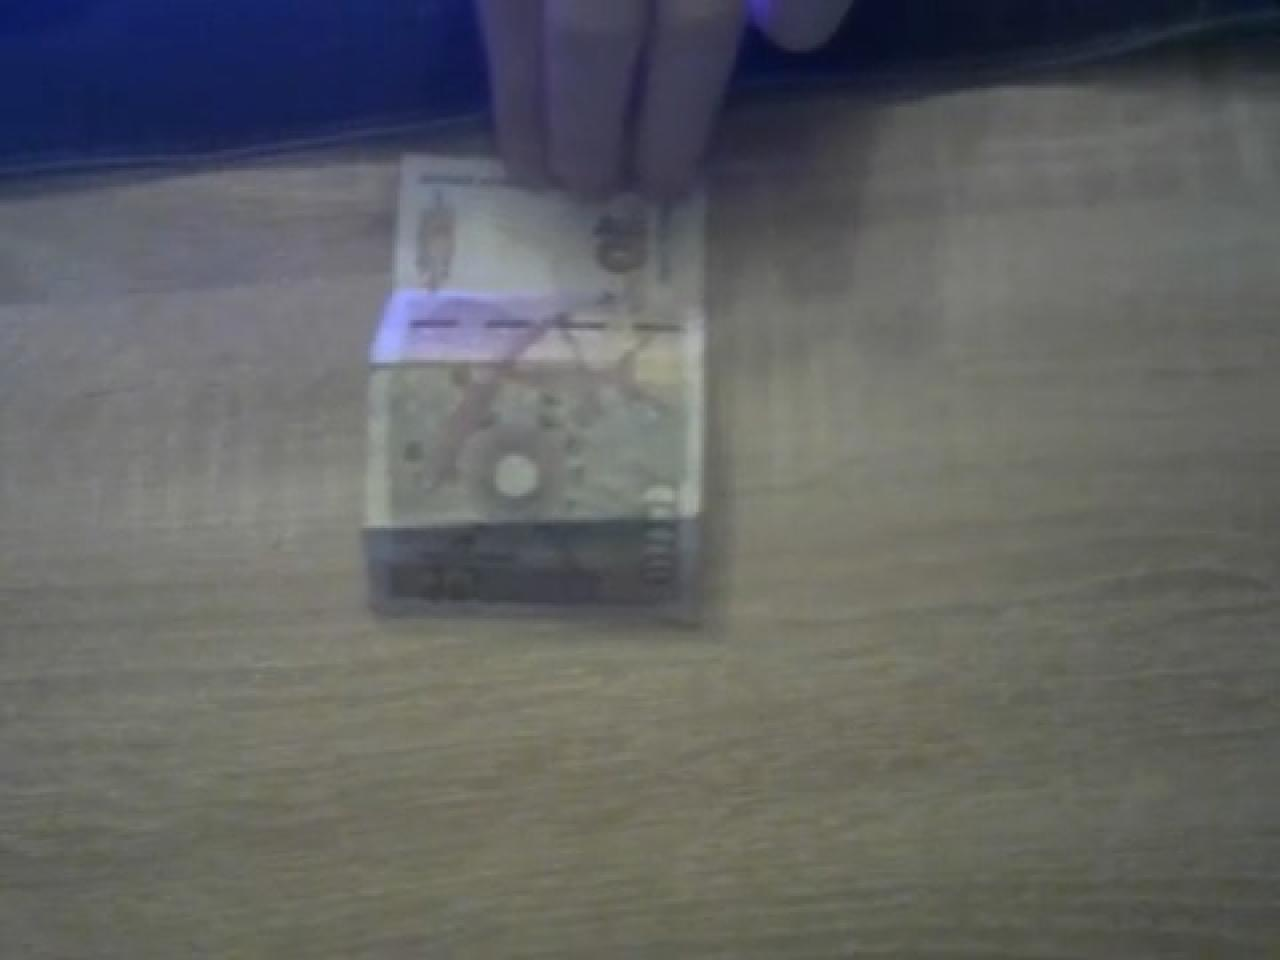10leva: (358, 160, 701, 611)
